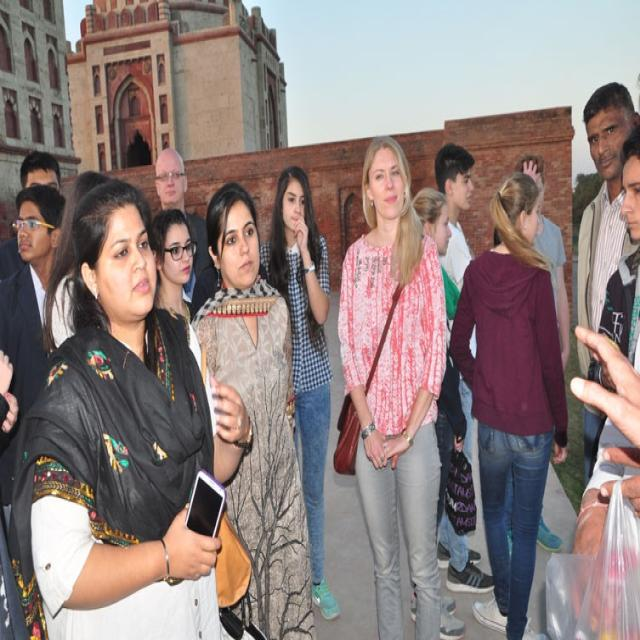body: (4, 169, 258, 639), (328, 126, 451, 638), (188, 179, 319, 640), (445, 172, 571, 638), (258, 164, 342, 623), (540, 317, 639, 640), (502, 151, 573, 562), (432, 138, 494, 596), (408, 185, 468, 640), (575, 80, 640, 497), (582, 127, 640, 594), (0, 183, 66, 544), (40, 171, 110, 356), (148, 146, 217, 312), (144, 204, 200, 326), (0, 344, 20, 446), (18, 143, 69, 183)
